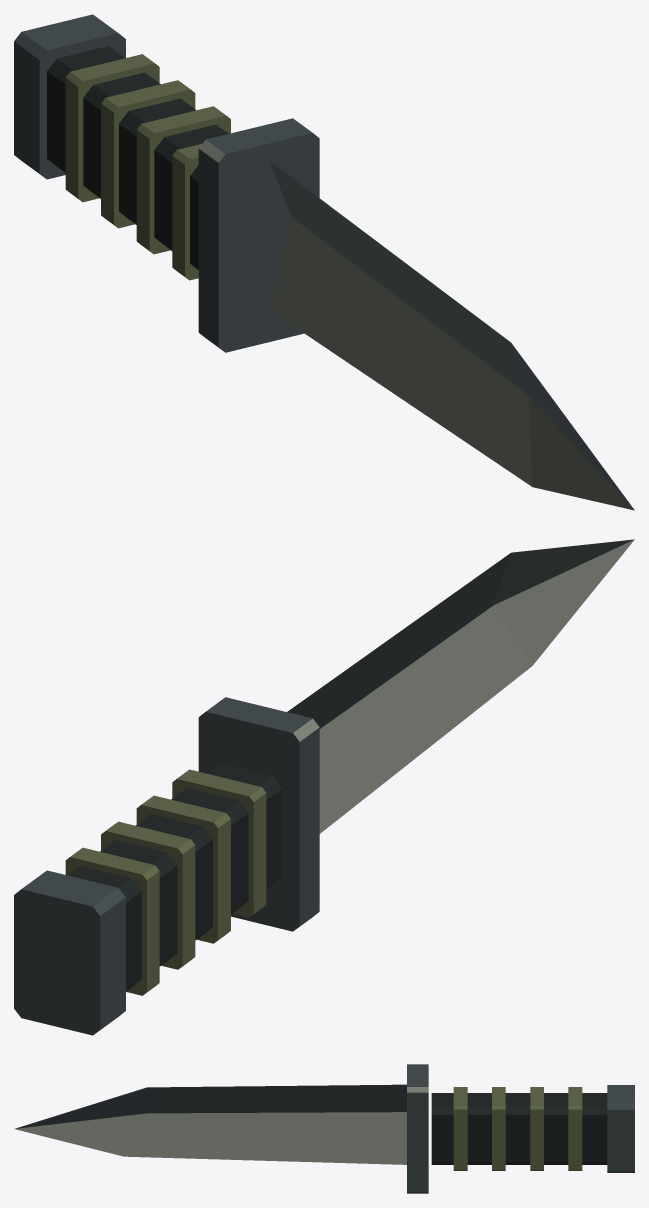
The model's file is Knife.gltf.
The picture shows the model from 3 angles, top to bottom: view 1: azimuth 30°, elevation 25°; view 2: azimuth 150°, elevation 25°; view 3: azimuth 270°, elevation 25°; orthographic projection. The views are drawn at different scales.
Parts seen in each view (by area): view 1: Knife; view 2: Knife; view 3: Knife.
Part boxes in pixels (bbox=[...]): Knife: bbox=[14, 14, 634, 510]; Knife: bbox=[14, 539, 634, 1035]; Knife: bbox=[15, 1064, 634, 1193].
Bounding box in the file's own units: 0.041 × 0.077 × 0.406.
